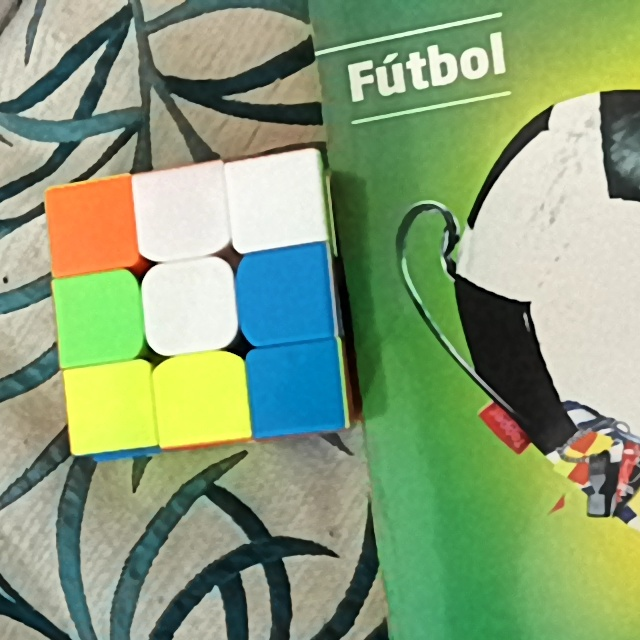tile: (55, 189, 128, 269), (248, 258, 328, 331), (259, 352, 335, 427), (235, 168, 315, 236), (144, 176, 218, 245), (155, 273, 225, 343), (163, 368, 238, 433), (63, 286, 135, 353), (80, 371, 146, 438)
